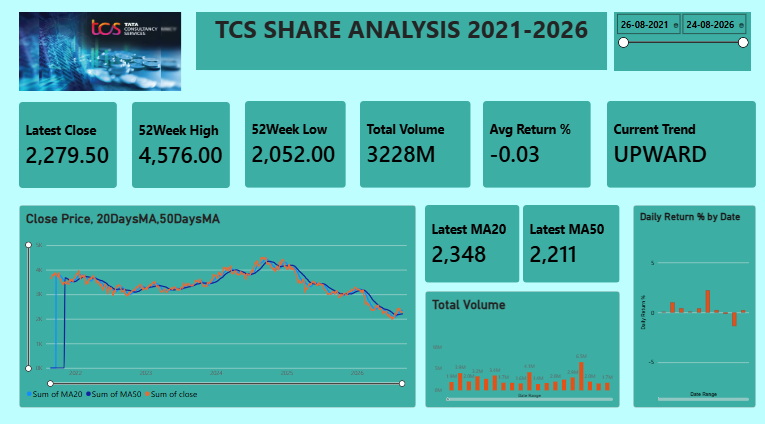

What the dashboard file says about the page in this screenshot:
{"tool":"powerbi","page":{"name":"STOCK_ANALYSIS","canvas":[1920,1080],"ordinal":0},"visuals":[{"type":"shape","box":[0,0,1920,1080.4],"z":0},{"type":"cardVisual","fields":{"Data":["Max(tcs_share_analysis (2).high)"]},"box":[364.6,255.2,238.2,209],"z":1000},{"type":"cardVisual","fields":{"Data":["Avg(tcs_share_analysis (2).Daily_Return)"]},"box":[1217.6,252.8,262.5,211.4],"z":2000},{"type":"cardVisual","fields":{"Data":["Min(tcs_share_analysis (2).low)"]},"box":[639.2,252.8,245.5,211.4],"z":3000},{"type":"cardVisual","fields":{"Data":["Sum(tcs_share_analysis (2).volume)"]},"box":[918.7,252.8,269.8,211.4],"z":4000},{"type":"cardVisual","fields":{"Data":["tcs_share_analysis (2).Current Trend"]},"box":[1519,252.8,362.1,211.4],"z":5000},{"type":"textbox","box":[520.1,36.5,998.9,141],"z":6000},{"type":"cardVisual","fields":{"Data":["tcs_share_analysis (2).Latest Close"]},"box":[89.9,255.2,238.2,209],"z":7000},{"type":"lineChart","title":"Close Price, 20DaysMA,50DaysMA","fields":{"Category":["tcs_share_analysis (2).date"],"Y":["Sum(tcs_share_analysis (2).MA20)","Sum(tcs_share_analysis (2).MA50)","Sum(tcs_share_analysis (2).close)"]},"box":[89.9,505.5,964.9,493.4],"z":8000},{"type":"slicer","fields":{"Values":["tcs_share_analysis (2).date"]},"box":[1536,36.5,330.5,141],"z":9000},{"type":"clusteredColumnChart","title":"Total Volume","fields":{"Category":["tcs_share_analysis (2).date"],"Y":["Sum(tcs_share_analysis (2).volume)"]},"box":[1076.7,714.5,473.9,284.4],"z":10000},{"type":"clusteredColumnChart","title":"Daily Return % by Date","fields":{"Category":["tcs_share_analysis (2).date"],"Y":["Sum(tcs_share_analysis (2).Daily_Return)"]},"box":[1582.2,505.5,298.9,493.4],"z":11000},{"type":"image","box":[89.9,36.5,393.7,192],"z":12000},{"type":"cardVisual","fields":{"Data":["tcs_share_analysis (2).Latest MA50"]},"box":[1314.8,505.5,235.7,189.6],"z":12001},{"type":"cardVisual","fields":{"Data":["tcs_share_analysis (2).Latest MA20"]},"box":[1076.7,505.5,230.9,189.6],"z":12002}]}

Visuals, with their boxes in screenshot pixels (x1, y1, x2, y2), scaled from the page's 1920x1080 canvas onto the 765x424 screenshot:
shape: 0,0,764,423
cardVisual - Max(tcs_share_analysis (2).high): 145,100,240,182
cardVisual - Avg(tcs_share_analysis (2).Daily_Return): 485,99,590,182
cardVisual - Min(tcs_share_analysis (2).low): 255,99,352,182
cardVisual - Sum(tcs_share_analysis (2).volume): 366,99,474,182
cardVisual - tcs_share_analysis (2).Current Trend: 605,99,750,182
textbox: 207,14,605,70
cardVisual - tcs_share_analysis (2).Latest Close: 36,100,131,182
"Close Price, 20DaysMA,50DaysMA" lineChart: 36,198,420,392
slicer - tcs_share_analysis (2).date: 612,14,744,70
"Total Volume" clusteredColumnChart: 429,281,618,392
"Daily Return % by Date" clusteredColumnChart: 630,198,750,392
image: 36,14,193,90
cardVisual - tcs_share_analysis (2).Latest MA50: 524,198,618,273
cardVisual - tcs_share_analysis (2).Latest MA20: 429,198,521,273
